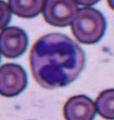N: (28, 32, 86, 88)
